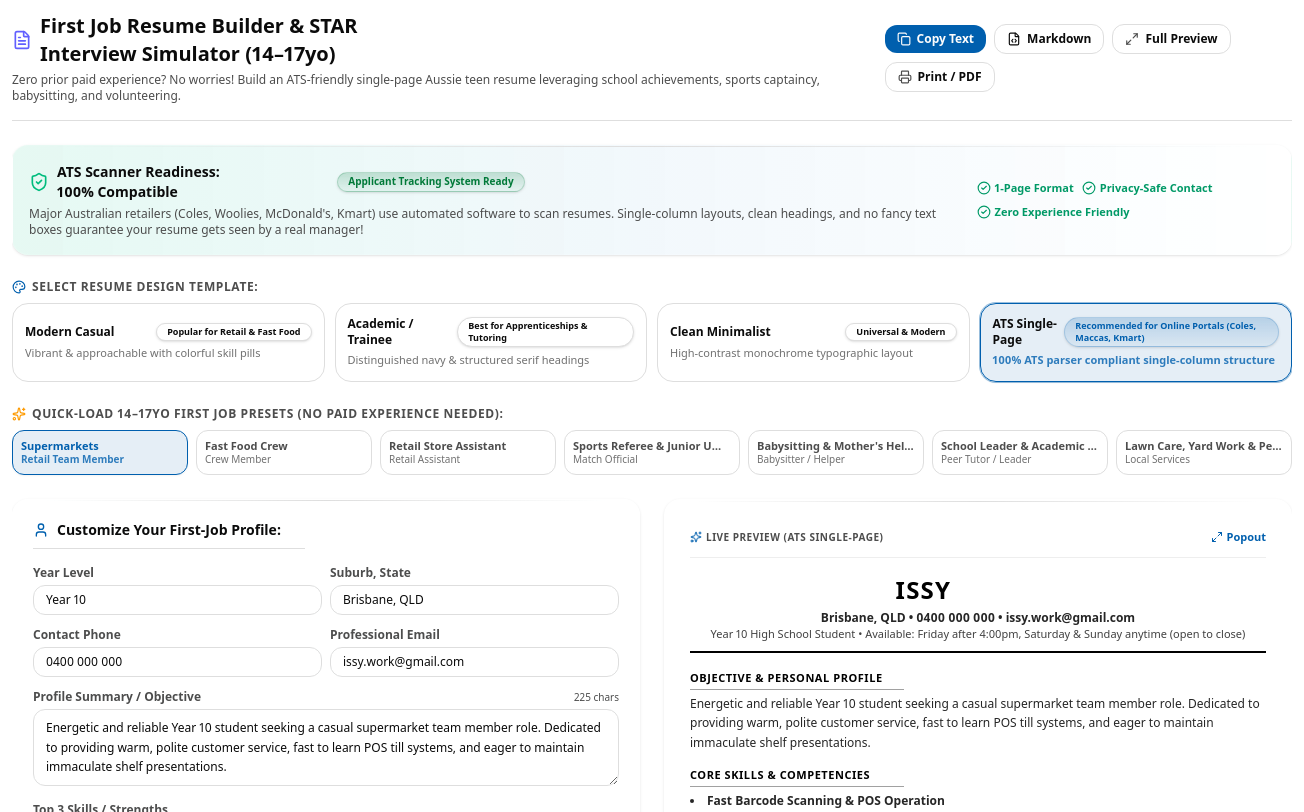
Test: TeenResumeBuilder Component › switches between ATS, modern, academic, and minimalist templates
Note: Modern Casual
Click the text "Modern Casual".
click(70, 332)  # box [25,324,114,340]
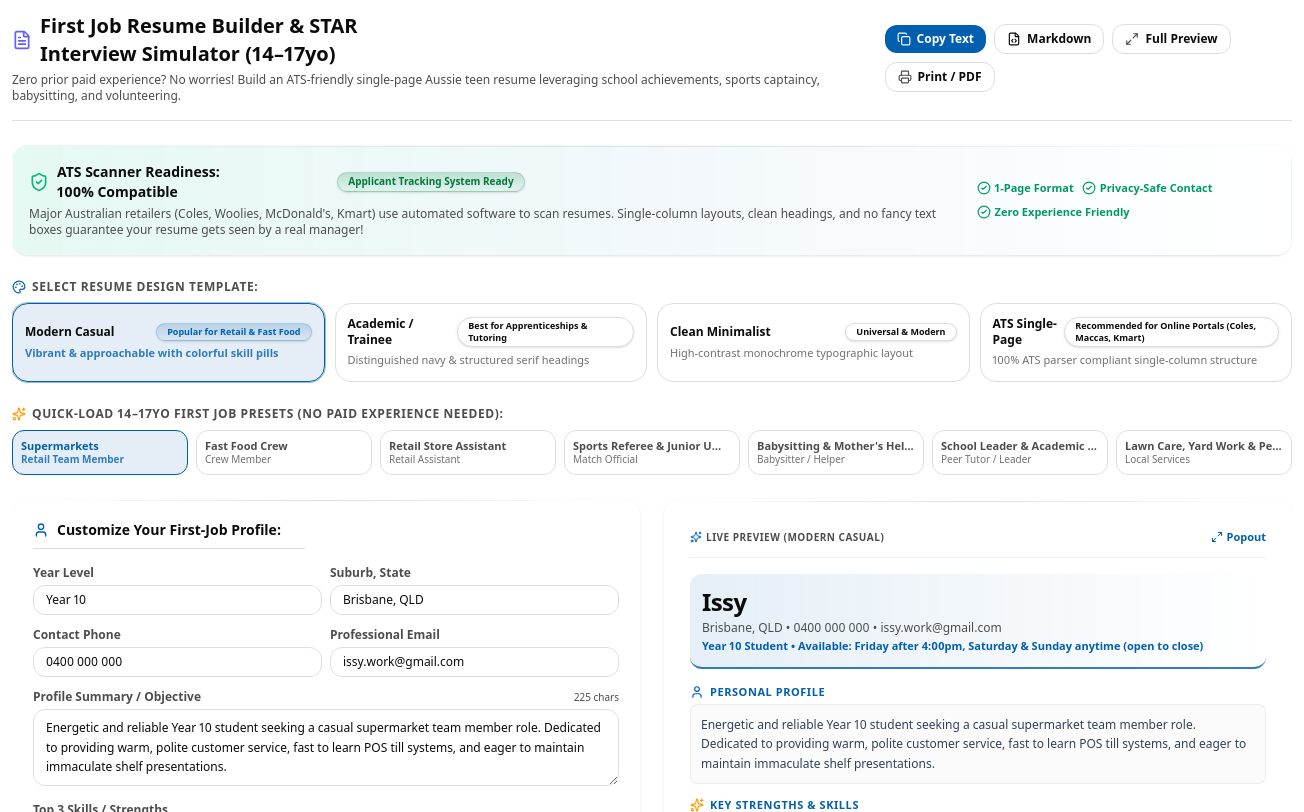
Note: Academic / Trainee
Click the text "Academic / Trainee".
click(381, 332)  # box [348,315,414,348]
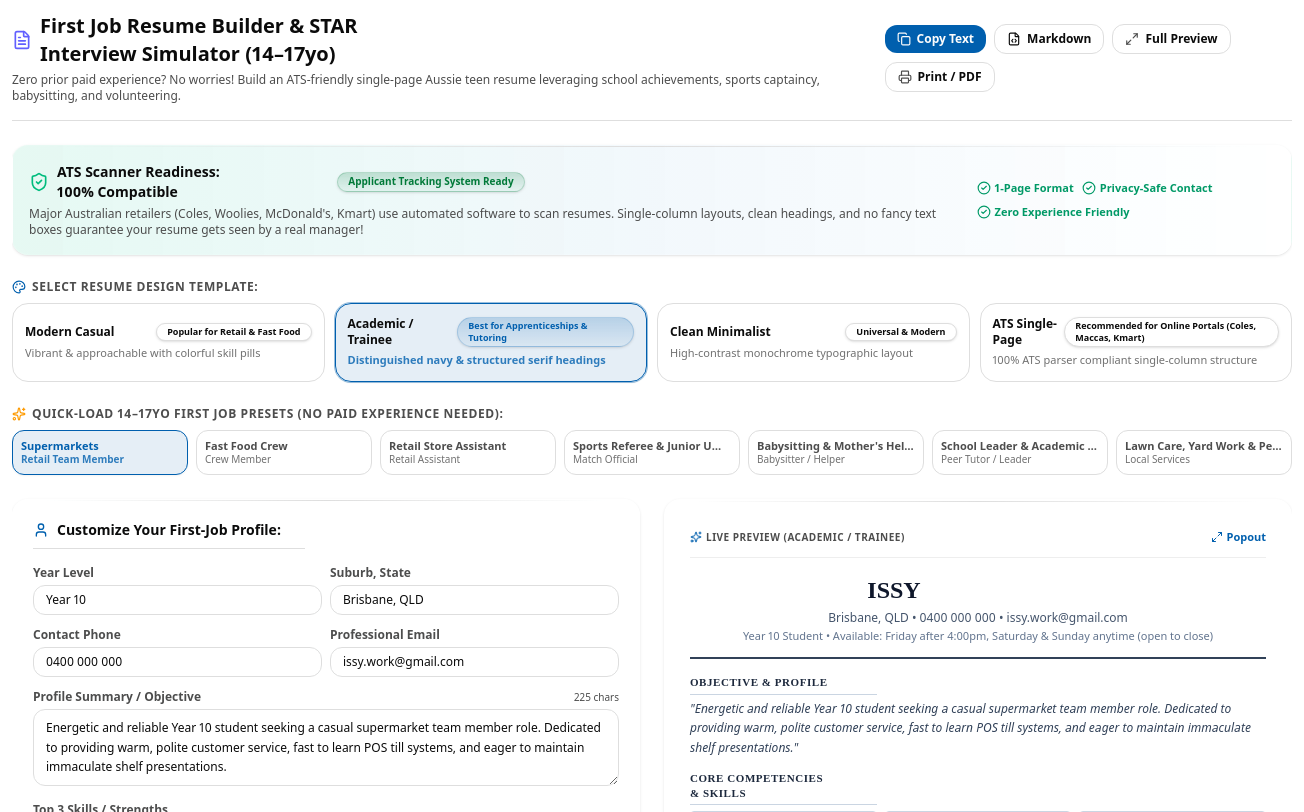
Note: Clean Minimalist
Click the text "Clean Minimalist".
click(720, 332)  # box [670,324,771,340]
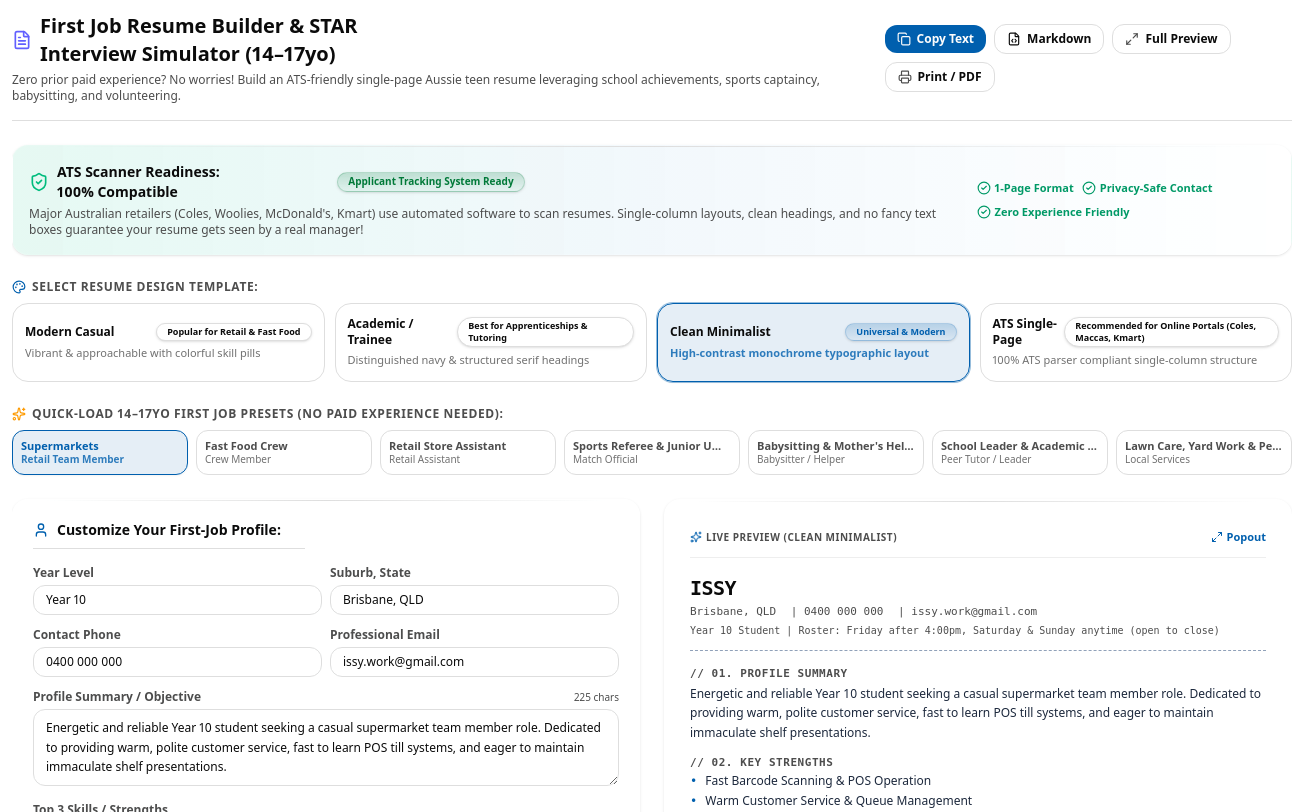
Check: the text "// 01. PROFILE SUMMARY" is shown, box [690,667,848,680]
Note: Back to ATS
Click the text "ATS Single-Page".
click(1028, 332)  # box [992,316,1064,348]
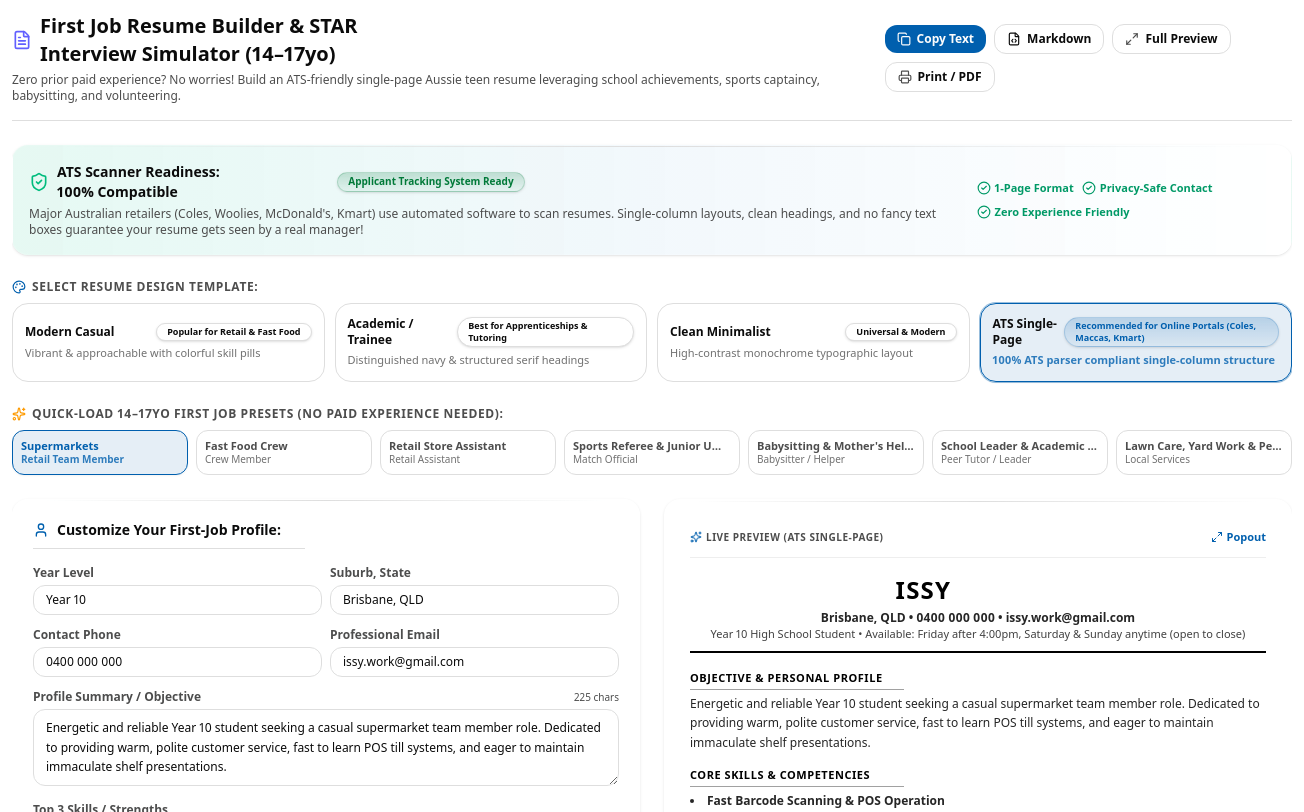
Check: the heading "OBJECTIVE & PERSONAL PROFILE" is shown, box [690,669,904,690]
